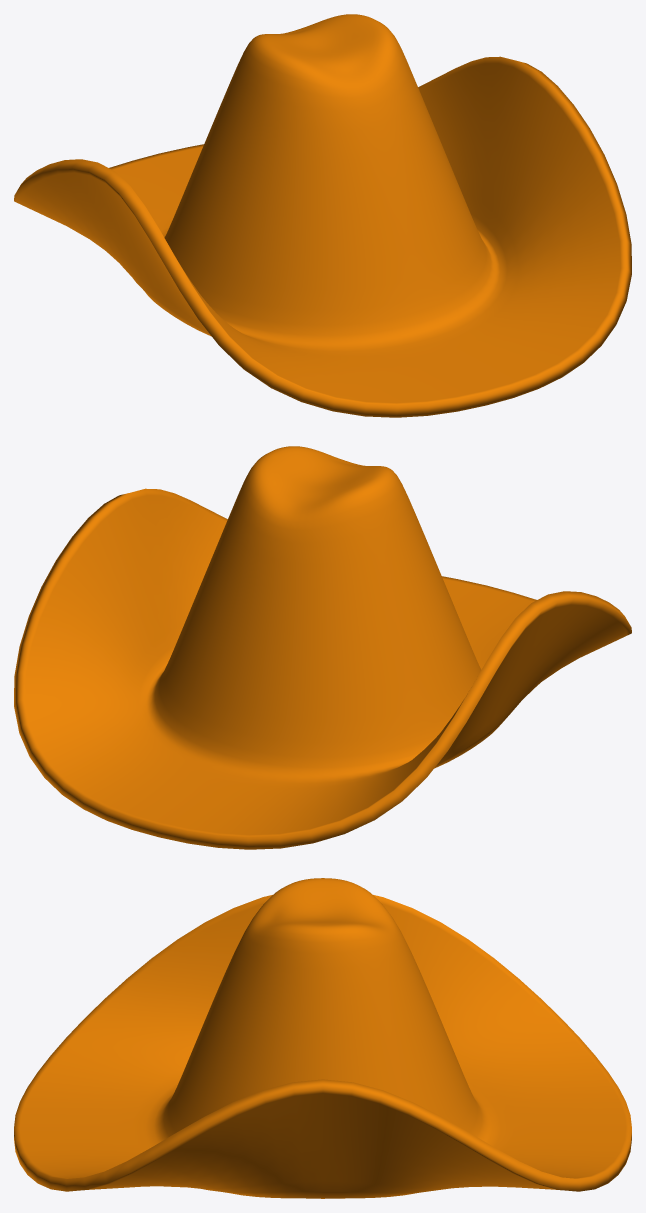
Rendered from MultiPartHat.fbx.
3 views of the same model, one above another, from view 1: azimuth 30°, elevation 25°; view 2: azimuth 150°, elevation 25°; view 3: azimuth 270°, elevation 25° (orthographic). The views are drawn at different scales.
Parts seen in each view (by area): view 1: Circle; view 2: Circle; view 3: Circle.
Boxes of the visible parts, x1,y1,x2,y2 form: Circle: (14, 14, 631, 417); Circle: (14, 446, 631, 849); Circle: (14, 878, 631, 1198).
Bounding box in the file's own units: 152 × 82.12 × 195.
